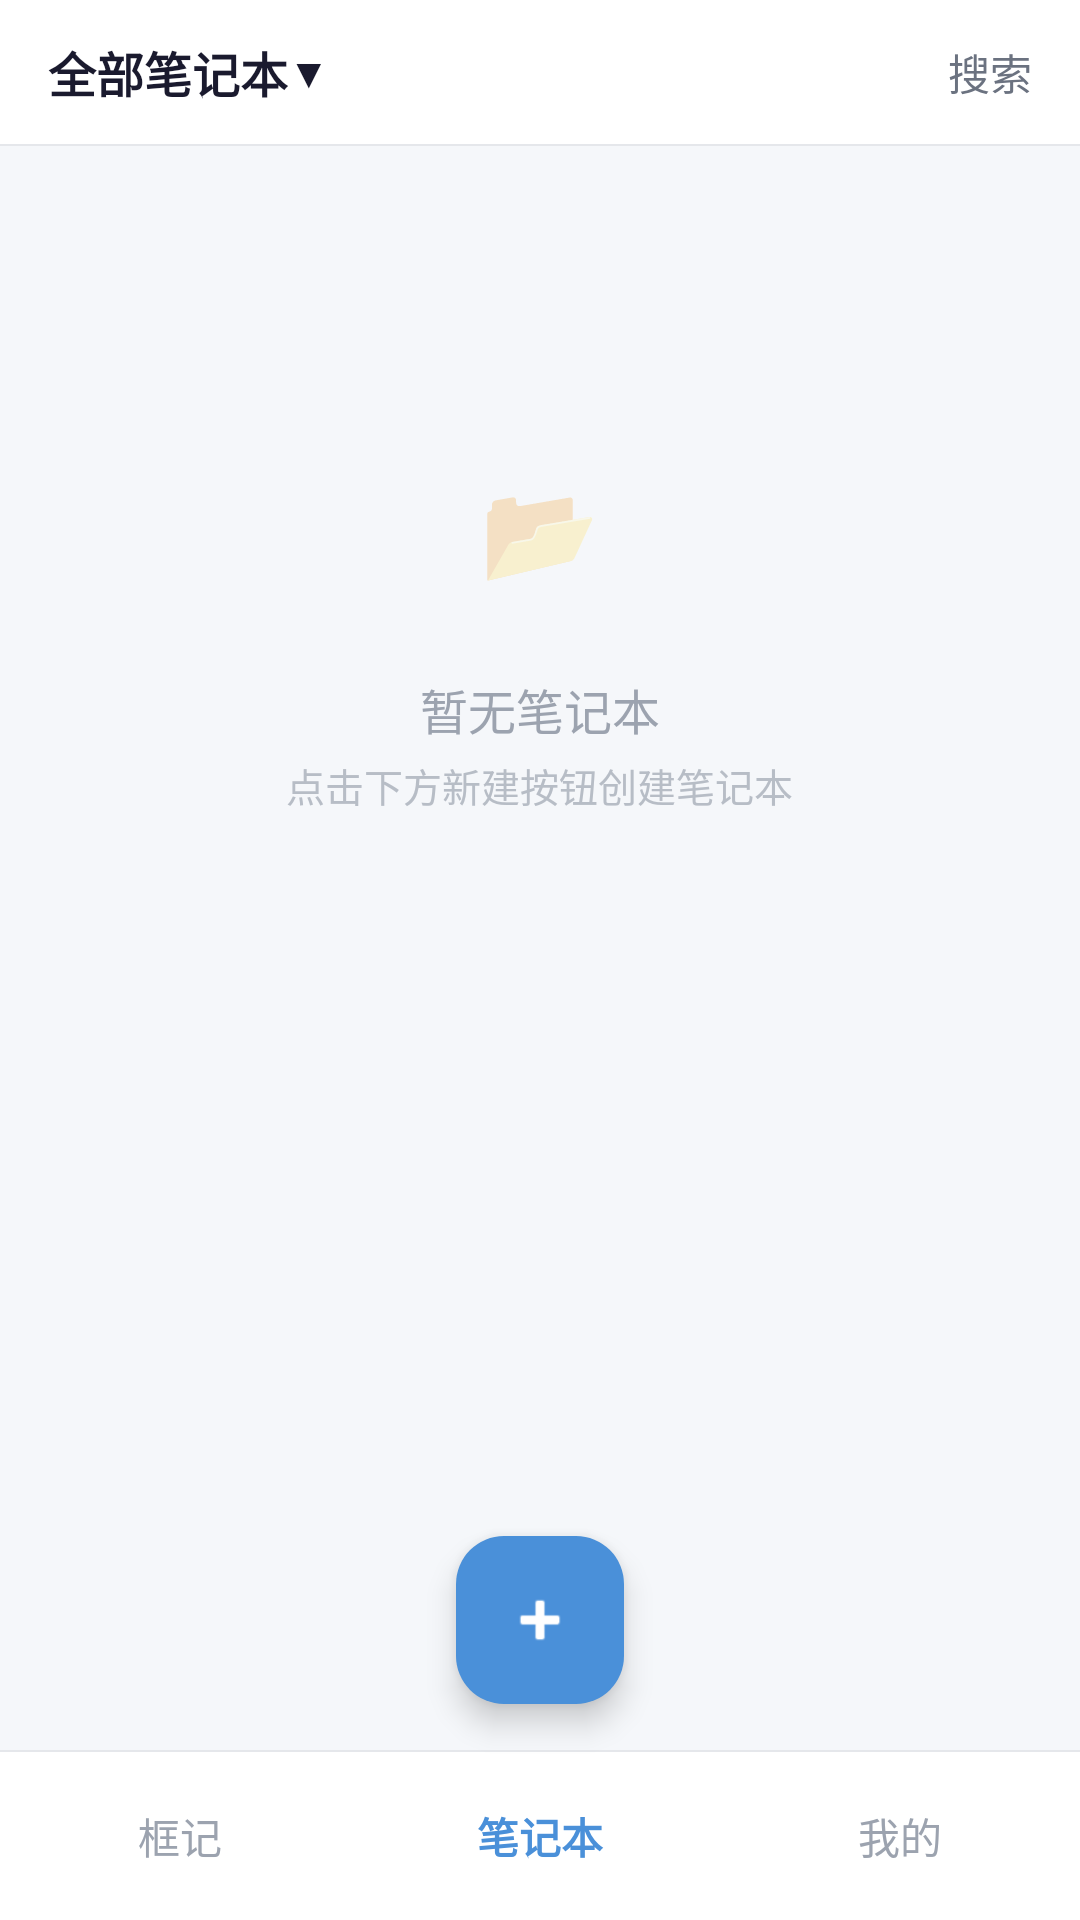

Point at icon controls on the screen. Image size 1080 x 1920, points as [x,y].
新建: [540,1620]
